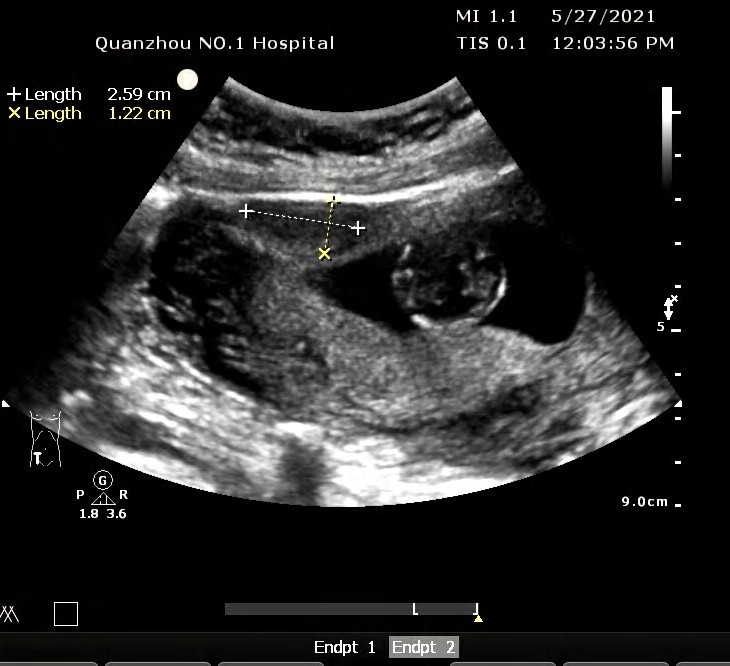肌瘤: (253, 206, 367, 252)
